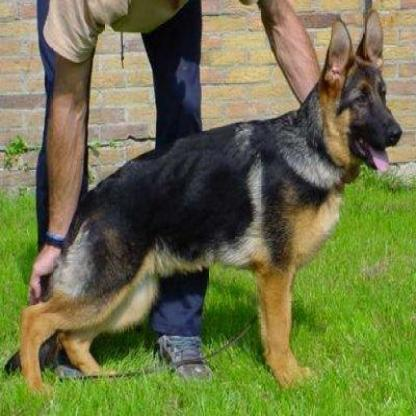German_shepherd: (4, 7, 402, 396)
